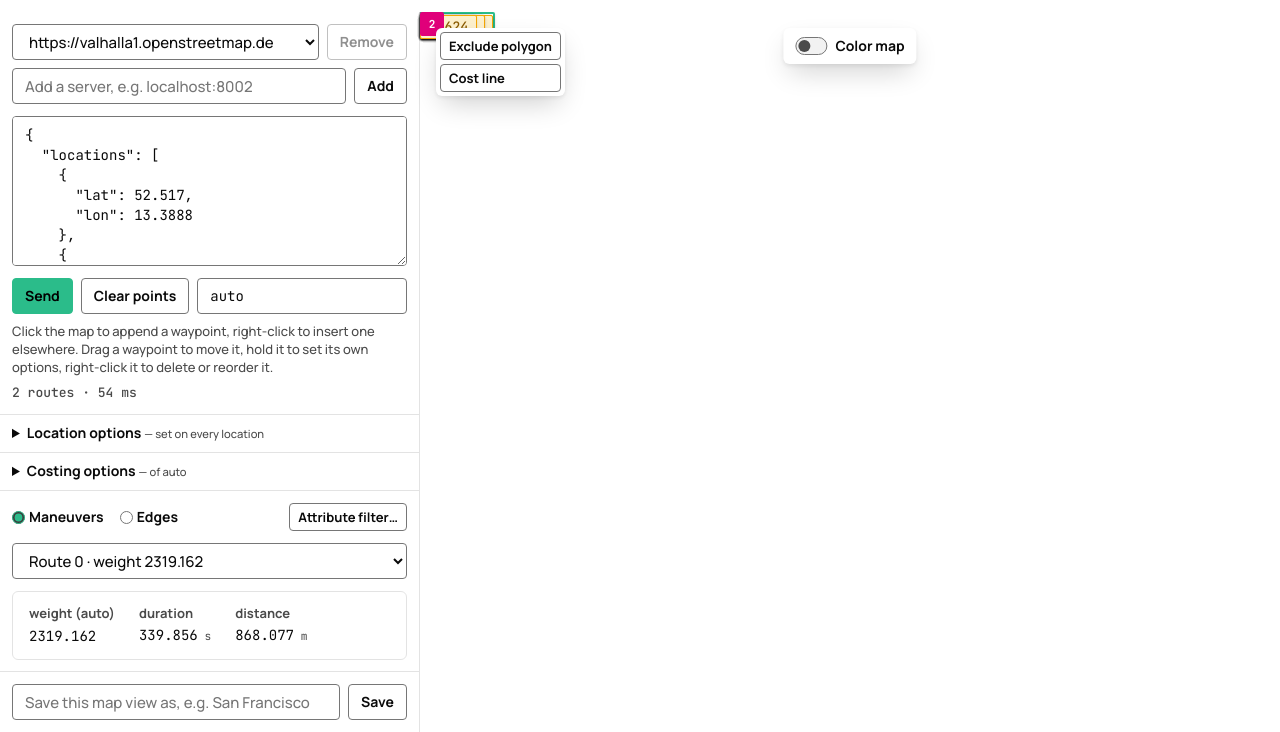
Test: route playground › switches between alternative routes
This screenshot has width=1280, height=732.
Check: the message shows "2 routes", box [12, 384, 137, 401]
Select "Route 1 · weight 9999" in the dropdown named "Route" at (210, 561), box [12, 543, 407, 579]
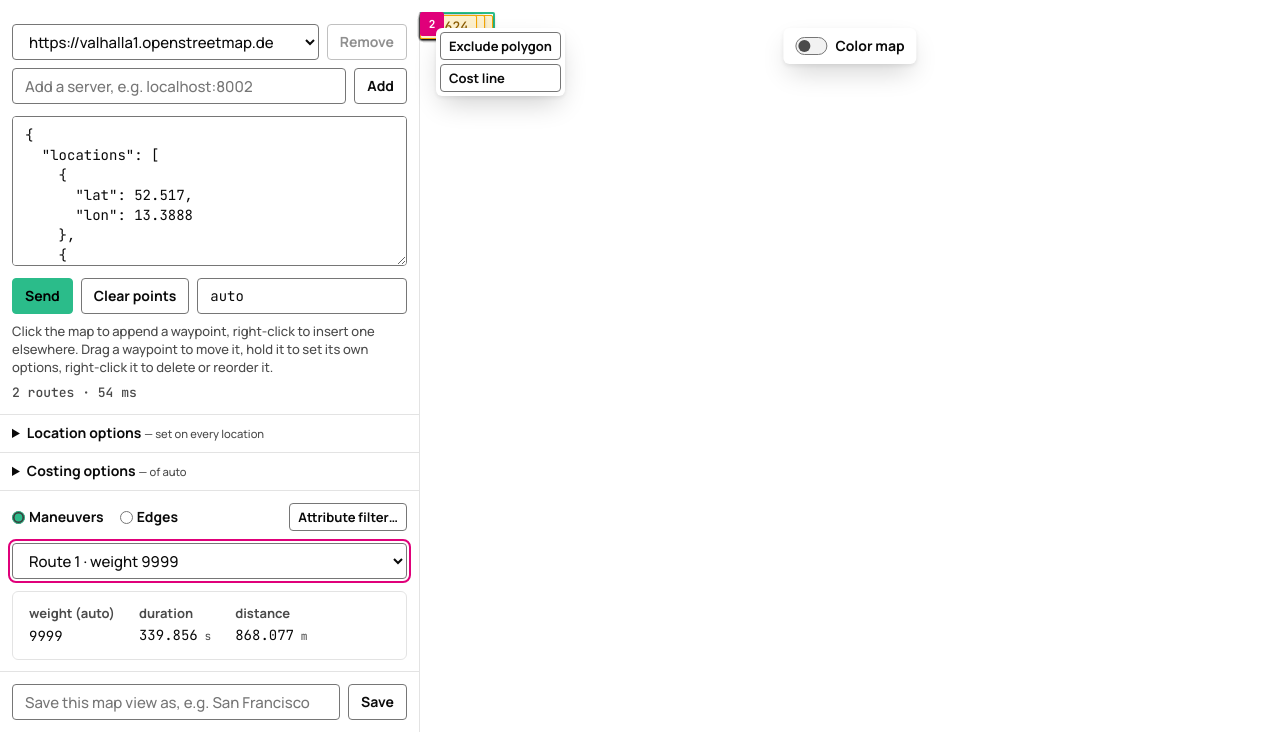
Check: the text "9999" is shown, box [29, 626, 63, 644]
